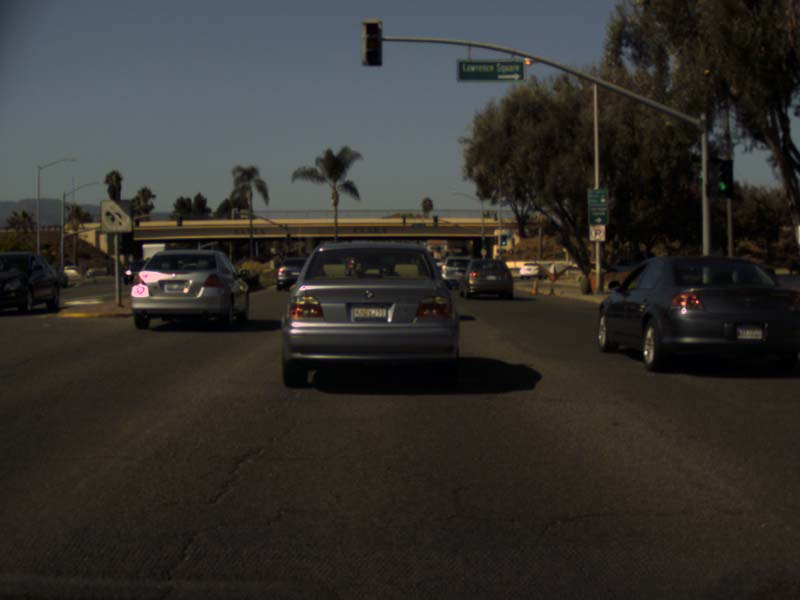Green: (718, 160, 733, 197), (500, 234, 506, 246), (482, 238, 488, 248), (433, 216, 437, 227)
Yellow: (361, 19, 382, 66)
